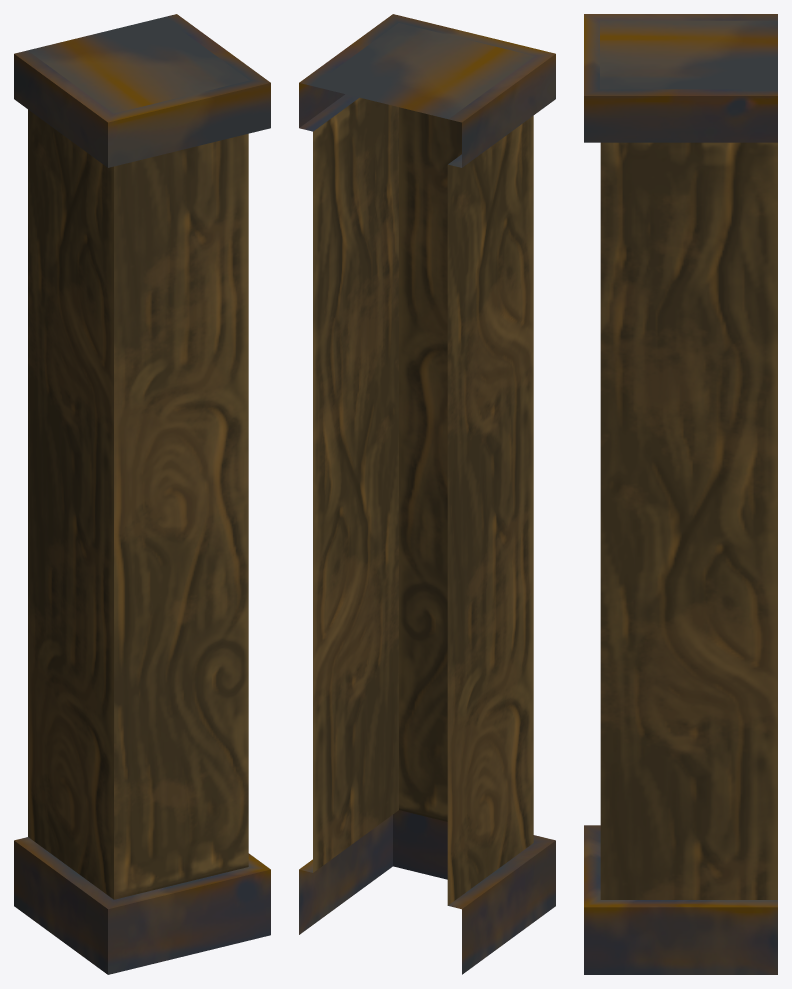
The model's file is WoodP_V1.fbx.
3 renders of one model, left to right at view 1: azimuth 30°, elevation 25°; view 2: azimuth 150°, elevation 25°; view 3: azimuth 270°, elevation 25°, orthographic. The views are drawn at different scales.
Visible parts, largest first — view 1: WoodP_V1; view 2: WoodP_V1; view 3: WoodP_V1.
Boxes of the visible parts, <box> form: WoodP_V1: <box>14,14,270,974</box>; WoodP_V1: <box>299,14,555,974</box>; WoodP_V1: <box>584,14,777,974</box>.
Size of the model in its own units: 1000 by 5000 by 1000.
